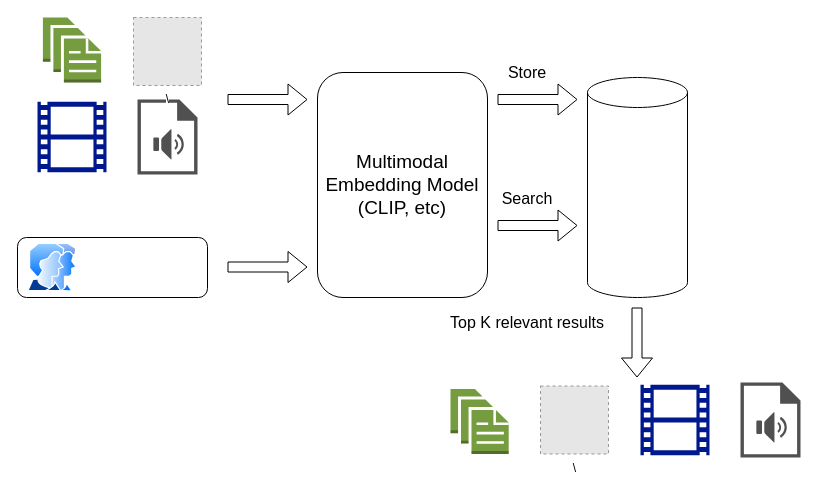
Image size: 818x492. Some labels were removed from this diagram. Grey dashed boxes stand in for pictures. Here are the shapes that lost their labels. From the top down, the box of each, then its label:
(586, 76, 688, 298): Vector Database
(16, 236, 208, 298): User Search
